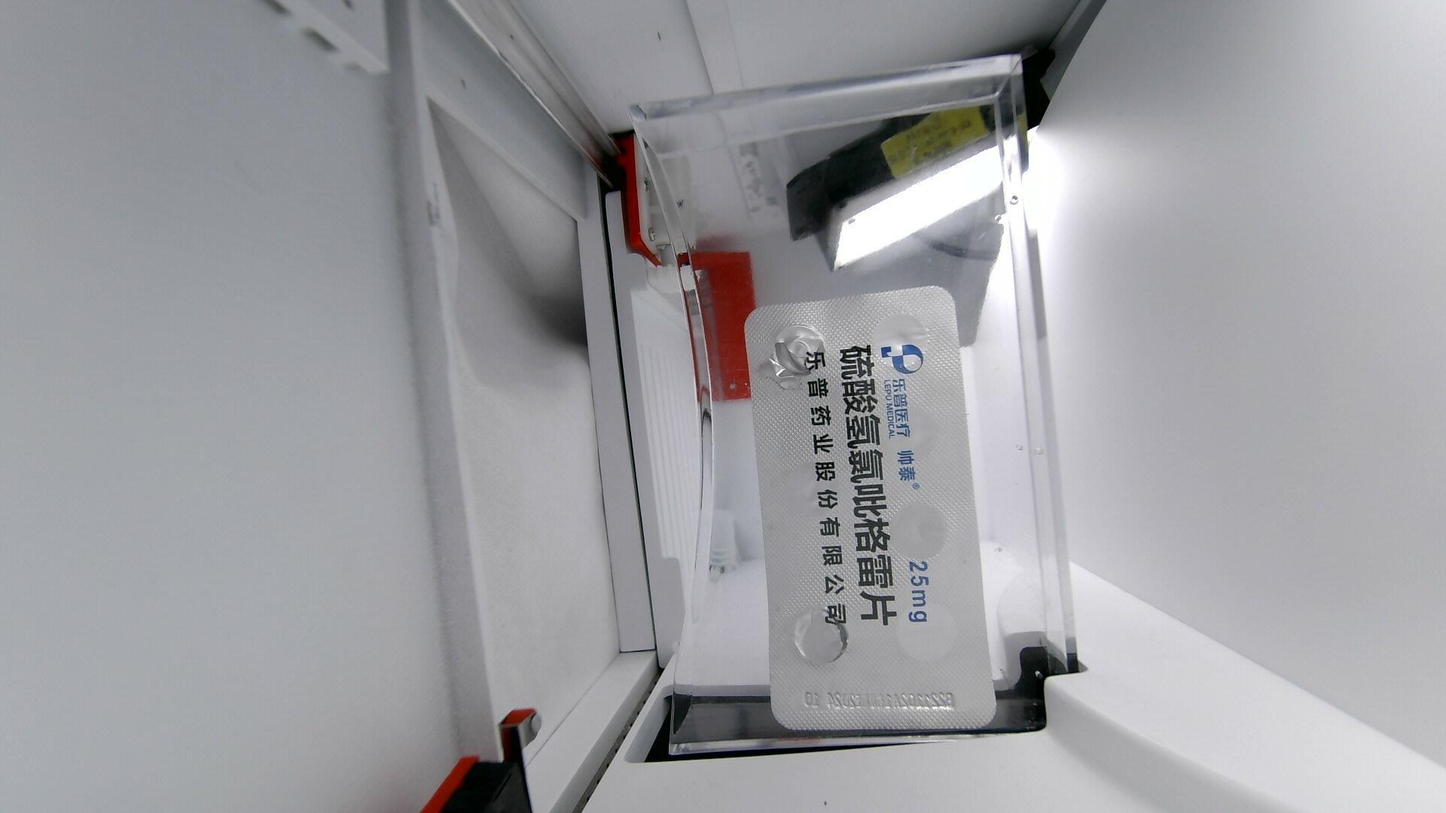No Pill Back: (792, 605, 851, 667), (773, 323, 829, 376)
Pill Back: (886, 496, 952, 568), (780, 457, 847, 522), (873, 400, 938, 464), (897, 598, 961, 661), (872, 312, 935, 364)
